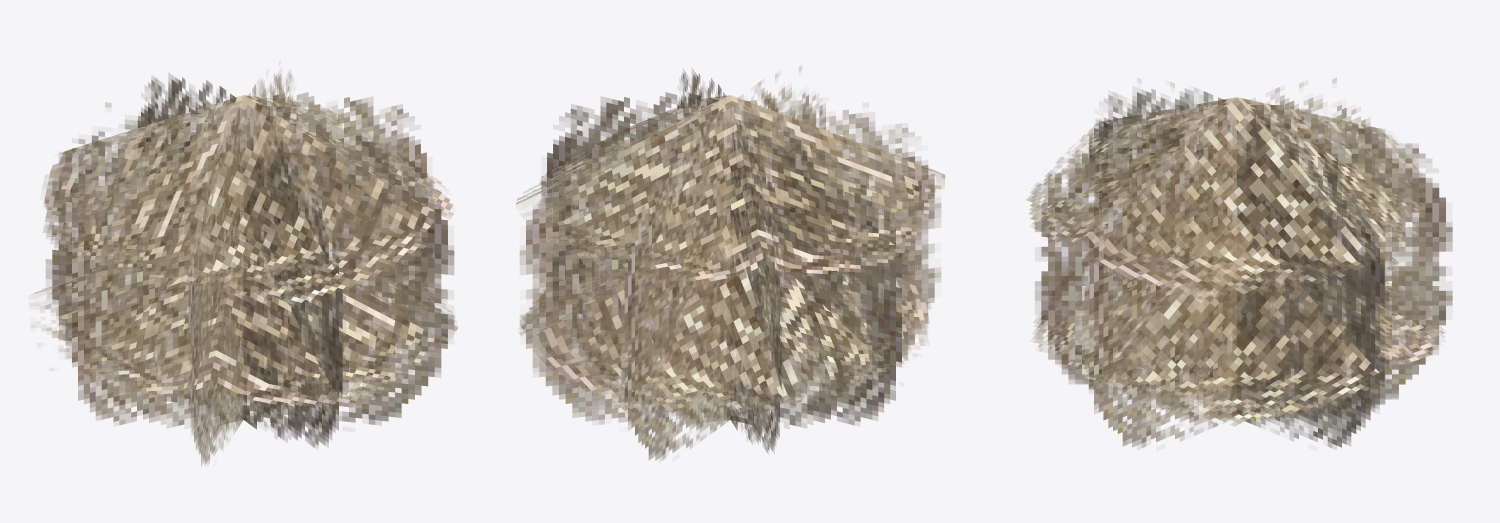
The model's file is Environment - Debris and Ruins - Rubble Mound - Debris - PMTmbWeed02.glb.
3 renders of one model, left to right at view 1: azimuth 30°, elevation 25°; view 2: azimuth 150°, elevation 25°; view 3: azimuth 270°, elevation 25°, orthographic.
Parts seen in each view (by area): view 1: PMTMBWEED02; view 2: PMTMBWEED02; view 3: PMTMBWEED02.
Part boxes in pixels (box(x1,y1,x2,y2)): PMTMBWEED02: box(29, 71, 457, 465); PMTMBWEED02: box(516, 66, 945, 462); PMTMBWEED02: box(1026, 78, 1452, 449).
Size of the model in its own units: 15.57 by 11.07 by 15.57.
1 material, 1 textured.
